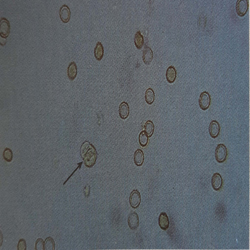WBC: (122, 182, 148, 211), (79, 138, 102, 170), (122, 212, 144, 232), (90, 39, 110, 60), (115, 95, 132, 119), (157, 211, 174, 234), (215, 142, 230, 168), (206, 117, 221, 141), (140, 45, 157, 66), (209, 171, 223, 195), (143, 116, 157, 140), (59, 3, 74, 25), (142, 87, 156, 109), (199, 88, 212, 111), (166, 62, 177, 87), (137, 129, 151, 148), (131, 29, 145, 48), (132, 148, 146, 166), (65, 61, 78, 80), (4, 146, 16, 165)
